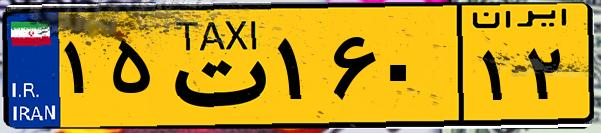0: (385, 28, 445, 110)
1: (270, 28, 330, 110), (57, 26, 110, 100), (475, 38, 525, 113)
2: (525, 38, 570, 115)
5: (110, 28, 158, 98)
6: (330, 28, 385, 110)
ت: (158, 12, 270, 120)
